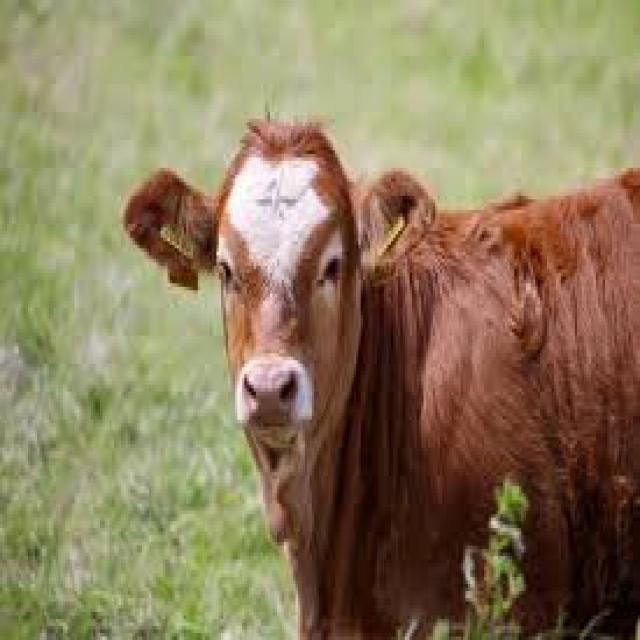cowFace: (96, 56, 436, 486)
